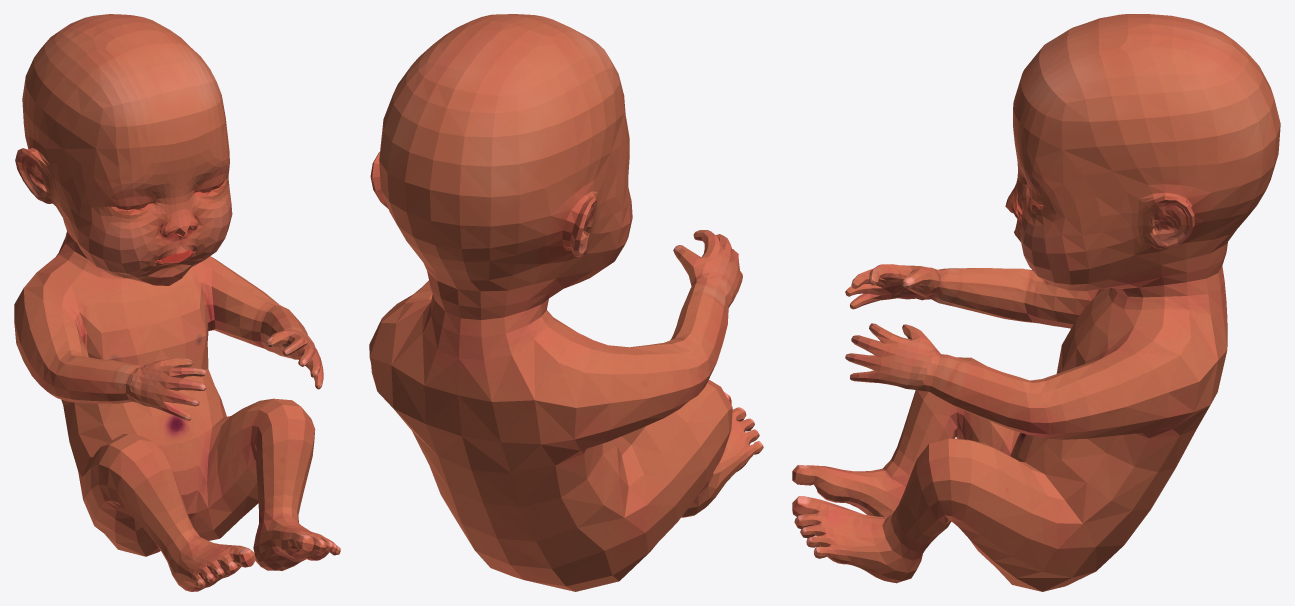
File: smallbaby.fbx
The picture shows the model from 3 angles, left to right: view 1: azimuth 30°, elevation 25°; view 2: azimuth 150°, elevation 25°; view 3: azimuth 270°, elevation 25°; orthographic projection. The views are drawn at different scales.
Parts seen in each view (by area): view 1: baby_body_3; view 2: baby_body_3; view 3: baby_body_3.
Part boxes in pixels (left/top/right/bottom): baby_body_3: left=14, top=14, right=340, bottom=591; baby_body_3: left=369, top=14, right=763, bottom=591; baby_body_3: left=792, top=14, right=1280, bottom=591.
Bounding box in the file's own units: 0.9683 × 1.84 × 1.48.
1 material, 1 textured.
